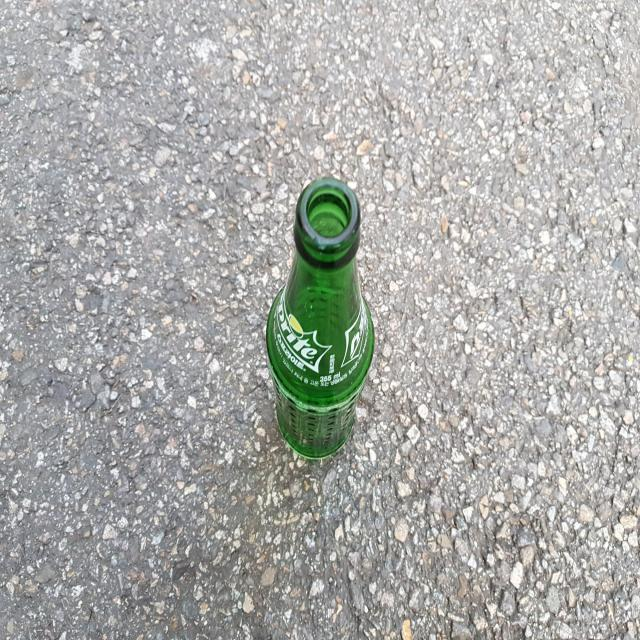glass: (267, 176, 375, 458)
